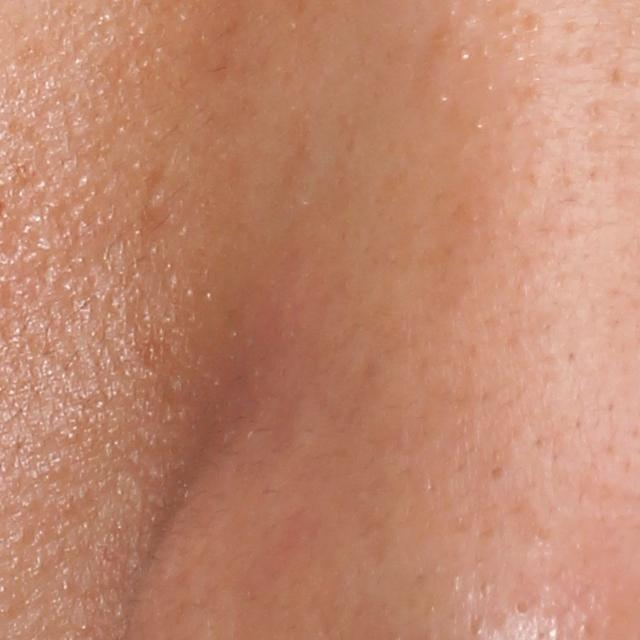comedo: (511, 597, 534, 621)
